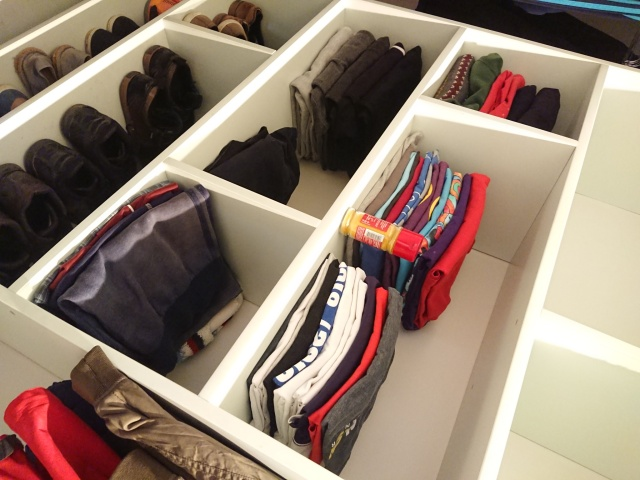Kotanyi Curry Spices Mix 70g: (336, 205, 426, 264)
